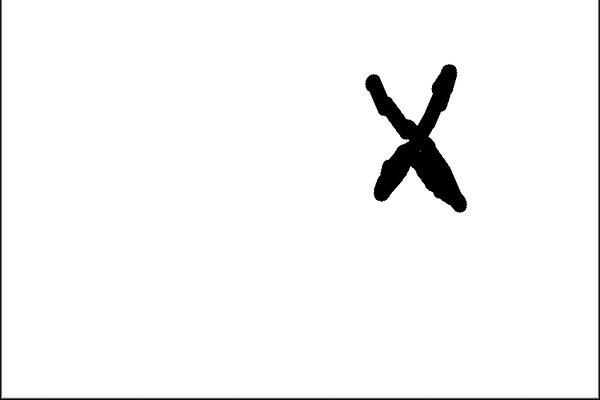X: (341, 57, 472, 223)
